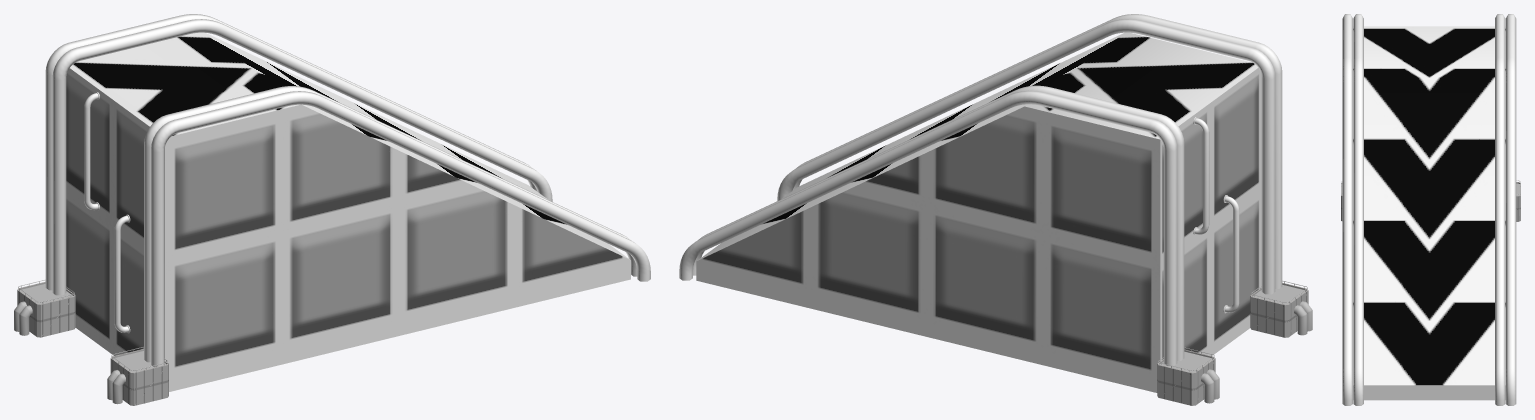
Rendered from let_9.FBX.
The picture shows the model from 3 angles, left to right: view 1: azimuth 30°, elevation 25°; view 2: azimuth 150°, elevation 25°; view 3: azimuth 270°, elevation 25°; orthographic projection. The views are drawn at different scales.
Visible parts, largest first — view 1: Box014, Box015, Box016; view 2: Box014, Box016, Box015; view 3: Box014, Box015.
Part boxes in pixels (x1=…): Box014: x1=45, y1=14, x2=650, y2=391; Box015: x1=14, y1=279, x2=75, y2=337; Box016: x1=107, y1=347, x2=168, y2=405; Box014: x1=679, y1=14, x2=1282, y2=392; Box016: x1=1250, y1=280, x2=1312, y2=337; Box015: x1=1157, y1=347, x2=1219, y2=405; Box014: x1=1342, y1=14, x2=1516, y2=405; Box015: x1=1516, y1=180, x2=1520, y2=221.
Bounding box in the file's own units: 21.47 × 10.51 × 8.11.
